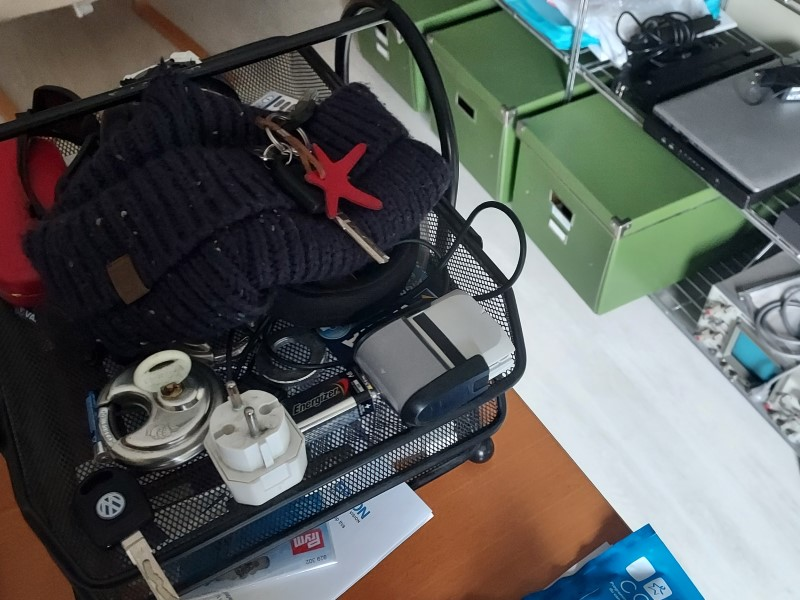key: (273, 153, 397, 271), (77, 472, 181, 593), (128, 345, 194, 396)
